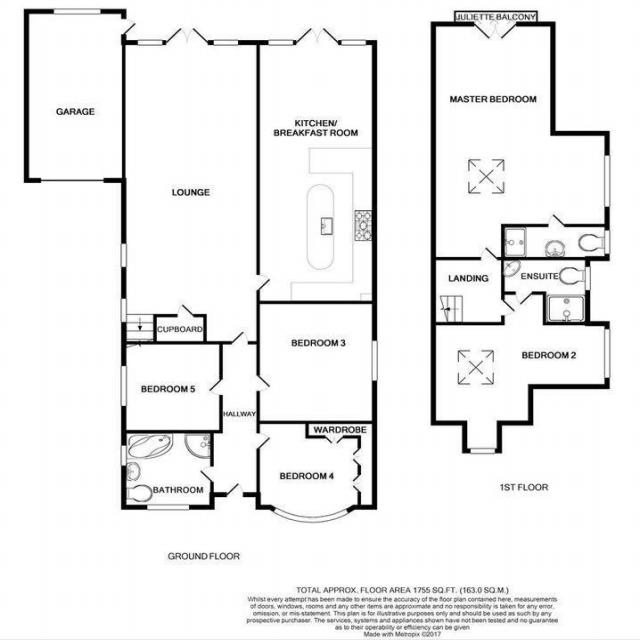DOOR: (255, 374, 272, 393), (255, 431, 272, 450), (226, 481, 245, 498), (230, 329, 250, 345), (175, 302, 195, 318), (547, 212, 566, 228), (514, 291, 533, 307), (255, 274, 272, 291), (121, 17, 137, 35), (500, 299, 516, 317), (208, 378, 223, 397), (480, 246, 499, 261), (199, 465, 215, 482)
DOUBLE DOOR: (468, 21, 521, 42), (163, 24, 209, 46), (294, 26, 341, 47)
ROOM: (121, 27, 272, 345), (430, 21, 610, 262), (256, 27, 378, 305), (430, 291, 611, 454), (256, 300, 378, 424), (255, 420, 361, 524), (121, 341, 223, 434)
WINDOW: (272, 507, 350, 524), (603, 155, 611, 208), (603, 328, 611, 379), (53, 8, 101, 15), (147, 503, 189, 511), (120, 365, 128, 407), (371, 340, 378, 382), (119, 243, 128, 268), (469, 447, 496, 455), (268, 39, 294, 47), (341, 39, 367, 47), (584, 266, 592, 292), (120, 298, 128, 323), (136, 39, 164, 46), (213, 39, 239, 46), (604, 230, 611, 255), (120, 445, 128, 466)
